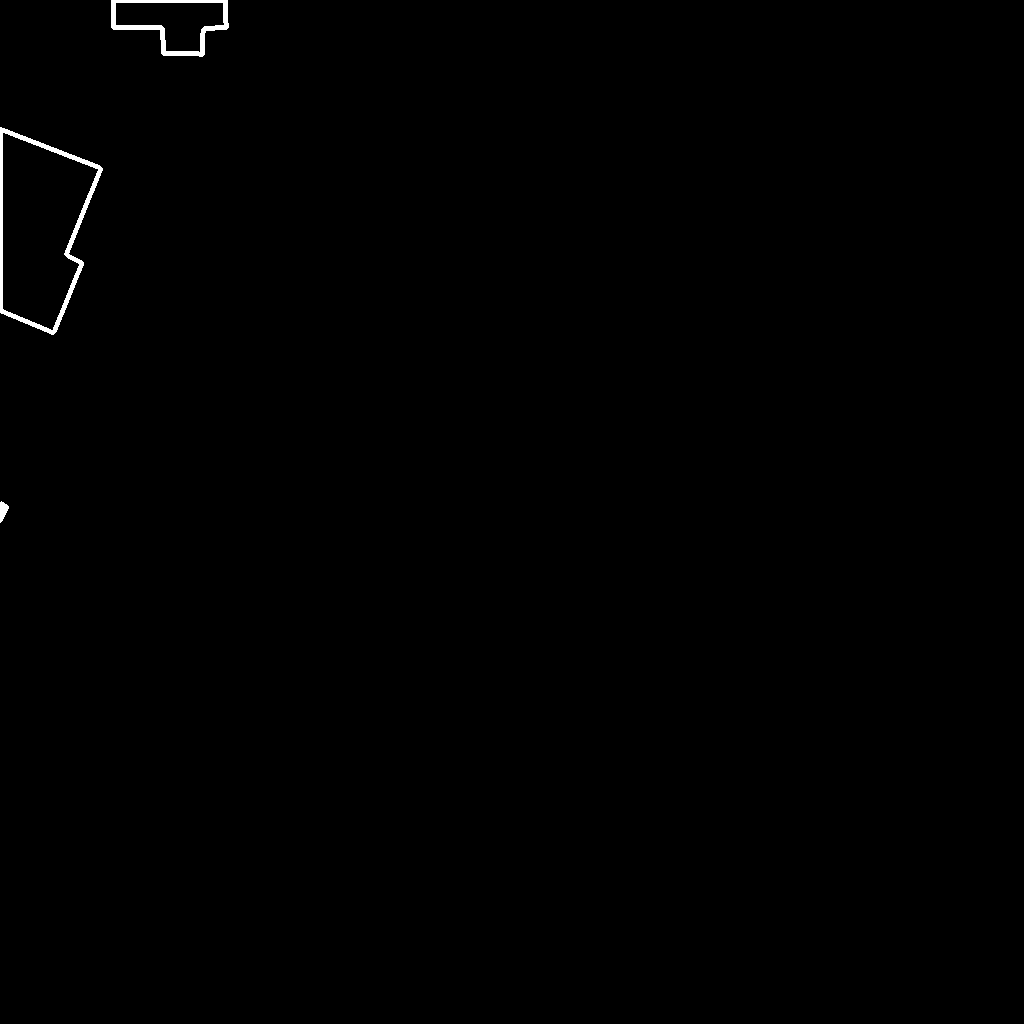building: (0, 129, 102, 334), (113, 0, 227, 55), (0, 503, 8, 522), (488, 0, 492, 2)
